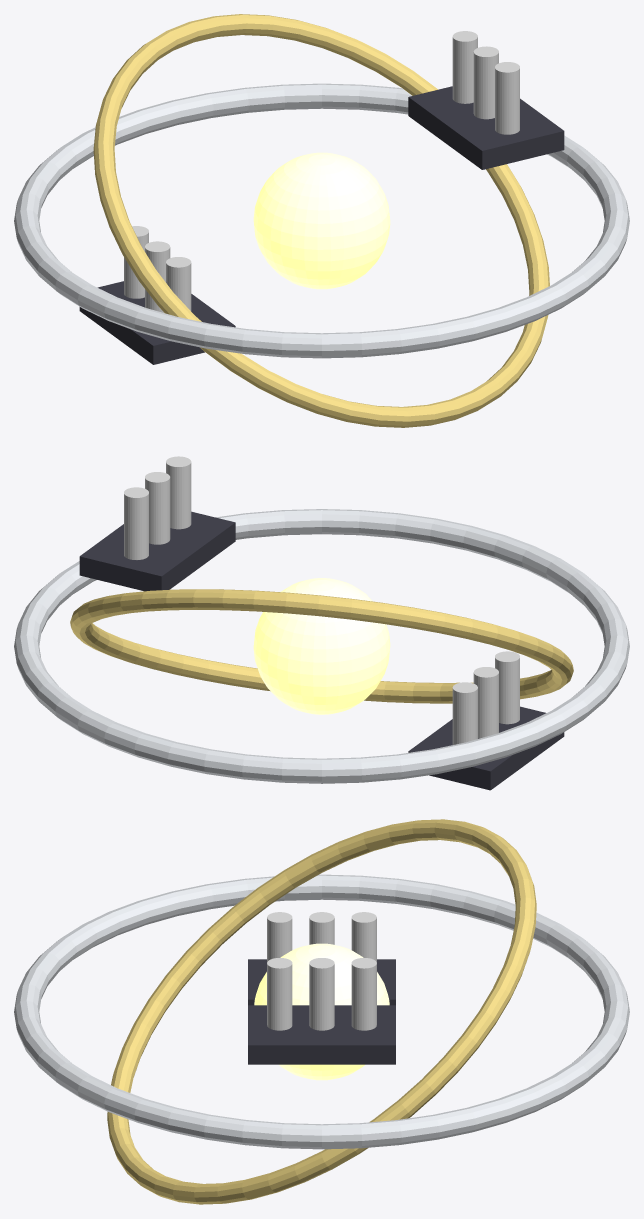
Rendered from causal_gimbal.glb.
3 views of the same model, one above another, from view 1: azimuth 30°, elevation 25°; view 2: azimuth 150°, elevation 25°; view 3: azimuth 270°, elevation 25° (orthographic).
Visible parts, largest first — view 1: OuterGimbalRing, InnerGimbalRing, CausalPivot, StratifiedTray2, StratifiedTray1, Vial_1_-0.4, Vial_1_0, Vial_1_0.4, Vial_0_-0.4, Vial_0_0, Vial_0_0.4; view 2: OuterGimbalRing, InnerGimbalRing, CausalPivot, StratifiedTray2, StratifiedTray1, Vial_1_0.4, Vial_1_-0.4, Vial_1_0, Vial_0_-0.4, Vial_0_0.4, Vial_0_0; view 3: OuterGimbalRing, InnerGimbalRing, StratifiedTray2, CausalPivot, Vial_1_0, Vial_1_0.4, Vial_1_-0.4, StratifiedTray1, Vial_0_0.4, Vial_0_-0.4, Vial_0_0.
Part boxes in pixels (x1=…): OuterGimbalRing: x1=14, y1=83, x2=629, y2=358; InnerGimbalRing: x1=93, y1=14, x2=549, y2=427; CausalPivot: x1=253, y1=152, x2=390, y2=289; StratifiedTray2: x1=408, y1=86, x2=564, y2=169; StratifiedTray1: x1=79, y1=281, x2=235, y2=364; Vial_1_-0.4: x1=495, y1=62, x2=519, y2=134; Vial_1_0: x1=473, y1=46, x2=498, y2=119; Vial_1_0.4: x1=452, y1=31, x2=477, y2=103; Vial_0_-0.4: x1=166, y1=257, x2=191, y2=311; Vial_0_0: x1=145, y1=241, x2=170, y2=312; Vial_0_0.4: x1=124, y1=226, x2=148, y2=298; OuterGimbalRing: x1=14, y1=509, x2=629, y2=783; InnerGimbalRing: x1=70, y1=589, x2=573, y2=703; CausalPivot: x1=253, y1=578, x2=390, y2=714; StratifiedTray2: x1=79, y1=511, x2=235, y2=591; StratifiedTray1: x1=408, y1=706, x2=564, y2=790; Vial_1_0.4: x1=124, y1=487, x2=148, y2=559; Vial_1_-0.4: x1=166, y1=456, x2=191, y2=529; Vial_1_0: x1=145, y1=472, x2=170, y2=544; Vial_0_-0.4: x1=495, y1=651, x2=519, y2=724; Vial_0_0.4: x1=452, y1=682, x2=477, y2=744; Vial_0_0: x1=473, y1=667, x2=498, y2=738; OuterGimbalRing: x1=14, y1=874, x2=629, y2=1149; InnerGimbalRing: x1=107, y1=819, x2=536, y2=1204; StratifiedTray2: x1=248, y1=1005, x2=395, y2=1064; CausalPivot: x1=254, y1=943, x2=389, y2=1080; Vial_1_0: x1=309, y1=958, x2=334, y2=1030; Vial_1_0.4: x1=351, y1=958, x2=376, y2=1030; Vial_1_-0.4: x1=267, y1=958, x2=292, y2=1030; StratifiedTray1: x1=248, y1=959, x2=395, y2=1005; Vial_0_0.4: x1=351, y1=912, x2=376, y2=962; Vial_0_-0.4: x1=267, y1=912, x2=292, y2=962; Vial_0_0: x1=309, y1=912, x2=334, y2=944.
Size of the model in its own units: 5.84 by 2.84 by 5.84.
